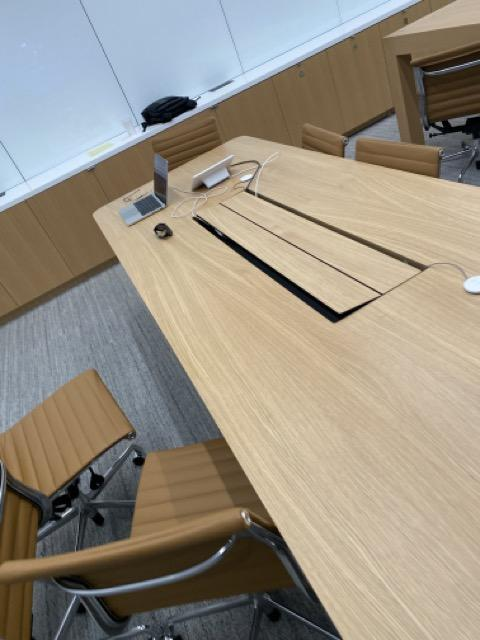Sunglasses: (155, 221, 174, 242)
